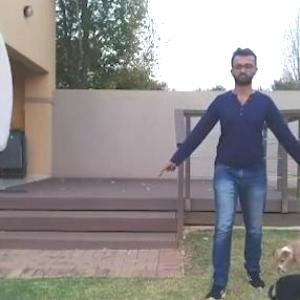land: (171, 58, 299, 283)
